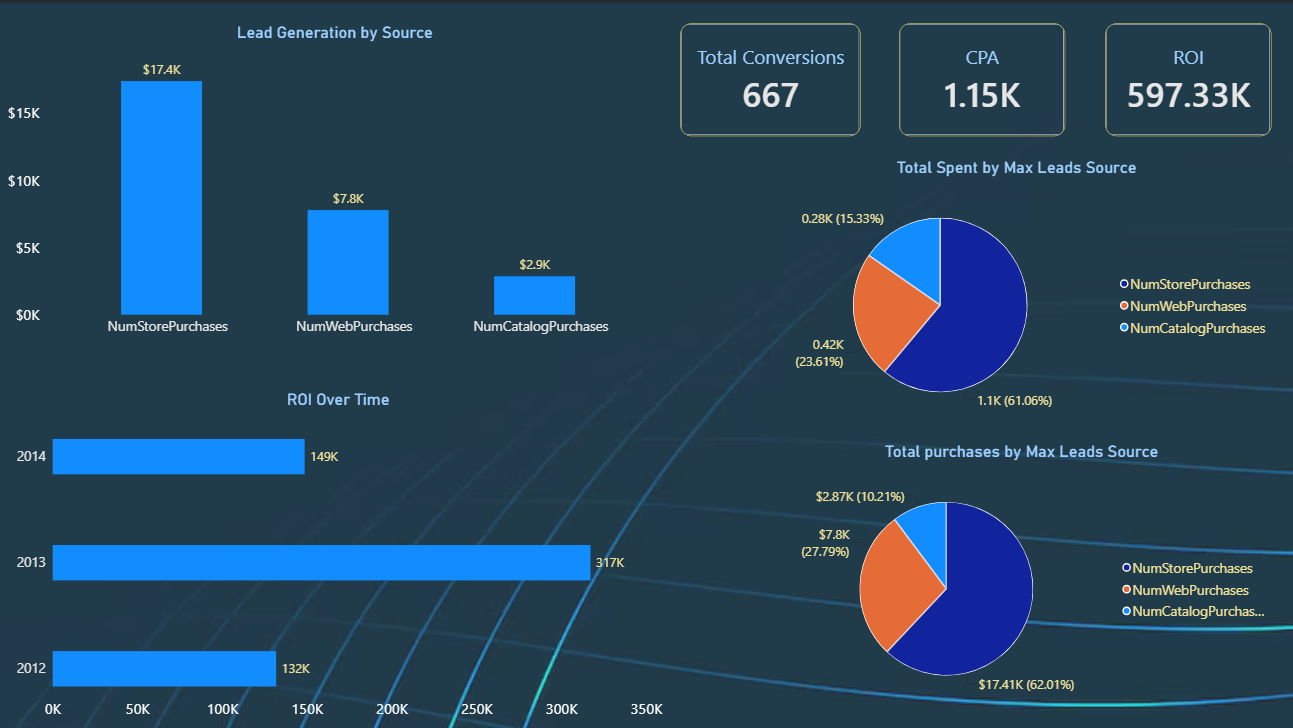

This screenshot's page, from the dashboard's own definition file:
{"tool":"powerbi","page":{"name":"Page 1","canvas":[1920,1080],"ordinal":0},"visuals":[{"type":"cardVisual","fields":{"Data":["Sum(updated_last.ROI)"]},"box":[1636.4,30.9,244.9,166.7],"z":0},{"type":"cardVisual","title":"CPA","fields":{"Data":["Sum(updated_last.CPA)"]},"box":[1331.7,30.9,244.9,166.7],"z":1000},{"type":"cardVisual","fields":{"Data":["Sum(updated_last.Total_Conversions)"]},"box":[1010.6,30.9,265.5,166.7],"z":2000},{"type":"clusteredColumnChart","title":"Lead Generation by Source","fields":{"Category":["updated_last.Max_Leads_Source"],"Y":["Sum(updated_last.Total_Leads)"]},"box":[20.6,30.9,963.3,465.2],"z":3000},{"type":"barChart","title":"ROI Over Time","fields":{"Category":["updated_last.Dt_Customer.Variation.Date Hierarchy.Year","updated_last.Dt_Customer.Variation.Date Hierarchy.Quarter","updated_last.Dt_Customer.Variation.Date Hierarchy.Month","updated_last.Dt_Customer.Variation.Date Hierarchy.Day"],"Y":["Sum(updated_last.ROI)"]},"box":[28.8,570.2,955.1,489.9],"z":3001},{"type":"pieChart","title":"Total purchases by Max Leads Source","fields":{"Category":["updated_last.Max_Leads_Source"],"Y":["Sum(updated_last.Total purchases)"]},"box":[1144.4,648.4,736.9,389],"z":3002},{"type":"pieChart","title":"Total Spent by Max Leads Source","fields":{"Category":["updated_last.Max_Leads_Source"],"Y":["Sum(updated_last.Total_Spent)"]},"box":[1130,230.5,751.3,389],"z":3003}]}

Visuals, with their boxes in screenshot pixels (x1, y1, x2, y2), scaled from the page's 1920x1080 canvas onto the 1293x728 screenshot:
cardVisual - Sum(updated_last.ROI): 1102:21:1267:133
"CPA" cardVisual: 897:21:1062:133
cardVisual - Sum(updated_last.Total_Conversions): 681:21:859:133
"Lead Generation by Source" clusteredColumnChart: 14:21:663:334
"ROI Over Time" barChart: 19:384:663:715
"Total purchases by Max Leads Source" pieChart: 771:437:1267:699
"Total Spent by Max Leads Source" pieChart: 761:155:1267:418
